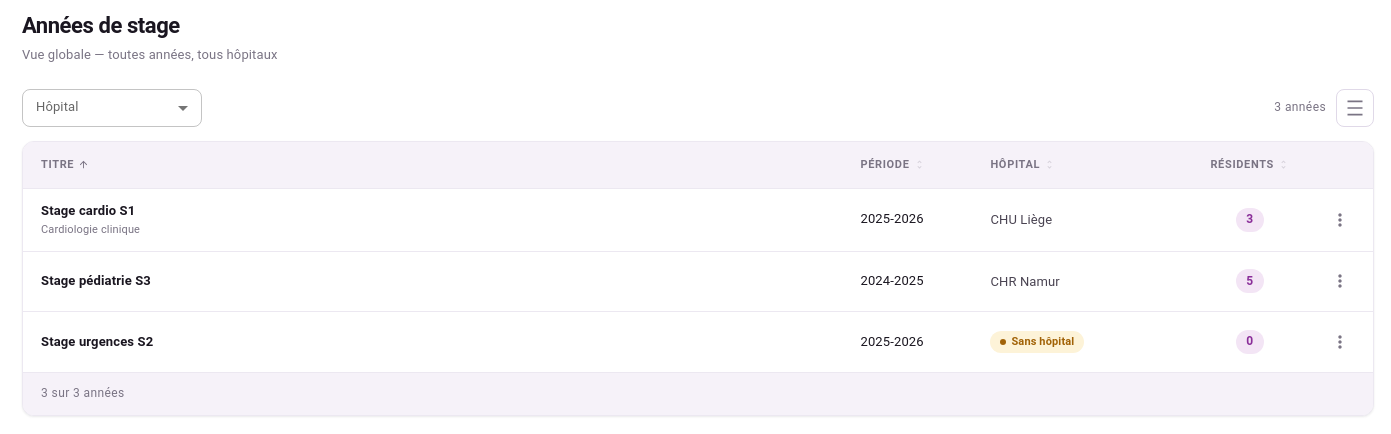
Test: AdminYearsPage › filtre 'Sans hôpital' n'affiche que les années non rattachées
The image size is (1391, 434).
Expected: the text "Stage cardio S1" is shown, [41,202,135,218]
Press the mouse on the dropdown: coordinates (112, 108) [22,90,202,125]
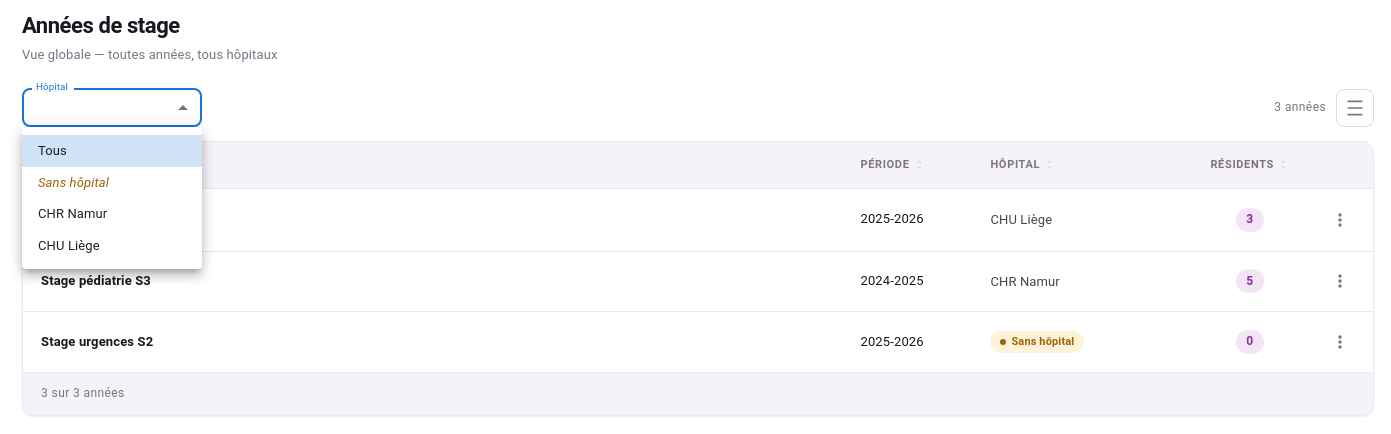
Now the option "Sans hôpital" is shown
Click the option "Sans hôpital": coordinates (73, 182) [38,174,109,190]
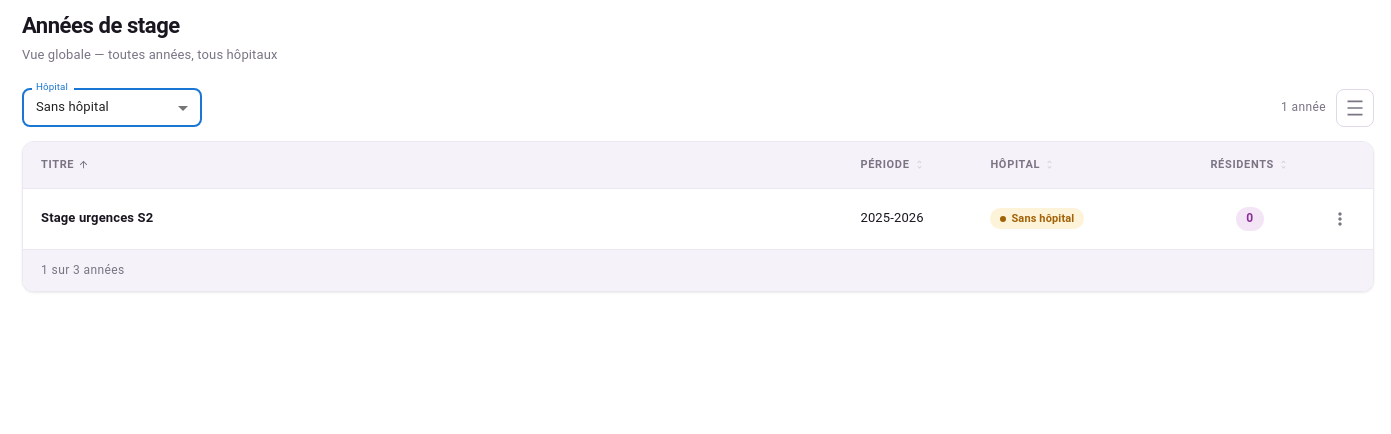
Expected: the text "Stage urgences S2" is shown, [41,210,153,225]
Now the text "Stage cardio S1" is gone
Now the text "Stage pédiatrie S3" is gone
